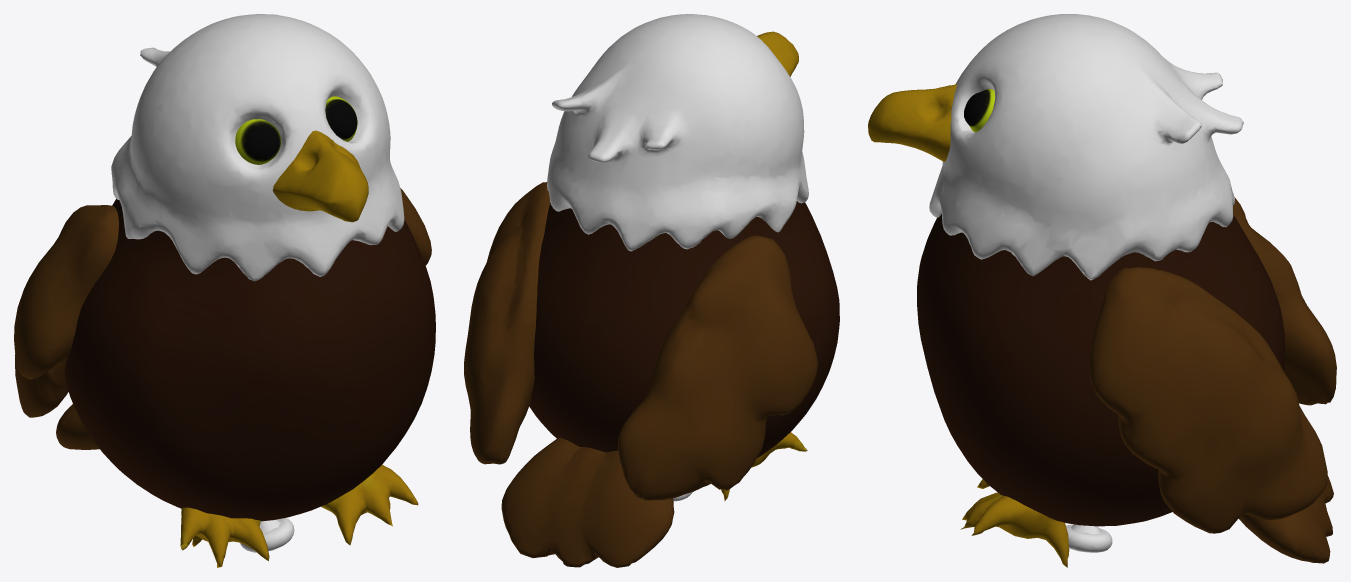
File: eyra.fbx
3 renders of one model, left to right at view 1: azimuth 30°, elevation 25°; view 2: azimuth 150°, elevation 25°; view 3: azimuth 270°, elevation 25°, orthographic. The views are drawn at different scales.
Parts seen in each view (by area): view 1: Layer_1, head, winds, Layer_3feet, Layer_5schnabel, eyes, knot; view 2: winds, head, Layer_1, Layer_5schnabel, Layer_3feet; view 3: head, Layer_1, winds, Layer_5schnabel, Layer_3feet, knot, eyes.
Boxes of the visible parts, left/top/right/bottom form: Layer_1: left=64, top=198, right=435, bottom=521; head: left=111, top=14, right=404, bottom=281; winds: left=14, top=188, right=431, bottom=449; Layer_3feet: left=180, top=464, right=418, bottom=567; Layer_5schnabel: left=272, top=130, right=368, bottom=222; eyes: left=235, top=96, right=357, bottom=164; knot: left=240, top=518, right=294, bottom=552; winds: left=464, top=182, right=817, bottom=567; head: left=547, top=14, right=808, bottom=251; Layer_1: left=529, top=201, right=839, bottom=457; Layer_5schnabel: left=757, top=31, right=798, bottom=76; Layer_3feet: left=721, top=432, right=807, bottom=501; head: left=929, top=14, right=1243, bottom=280; Layer_1: left=917, top=214, right=1284, bottom=526; winds: left=1089, top=197, right=1336, bottom=563; Layer_5schnabel: left=868, top=84, right=956, bottom=161; Layer_3feet: left=960, top=479, right=1069, bottom=567; knot: left=1066, top=524, right=1112, bottom=552; eyes: left=964, top=89, right=994, bottom=132.
Bounding box in the file's own units: 0.6816 × 0.7452 × 0.9102.
